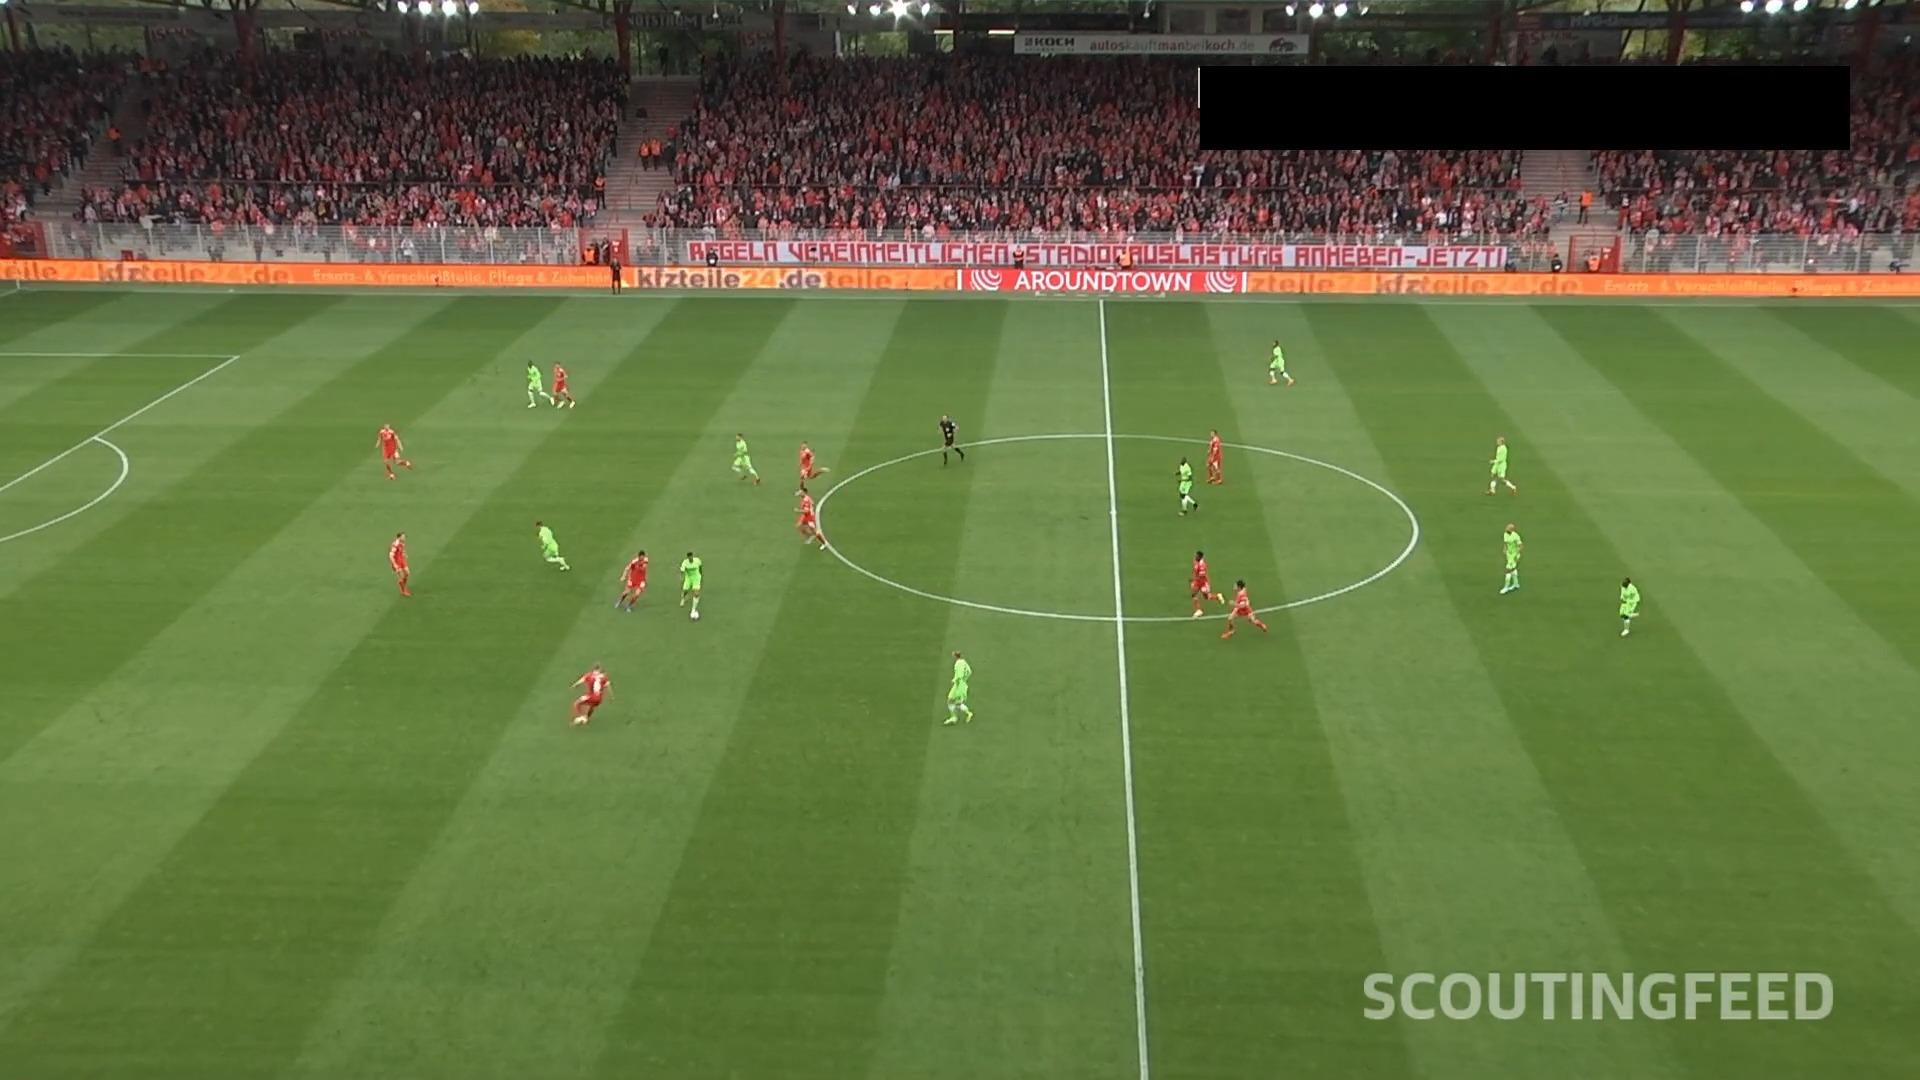ball: (690, 609, 702, 621)
